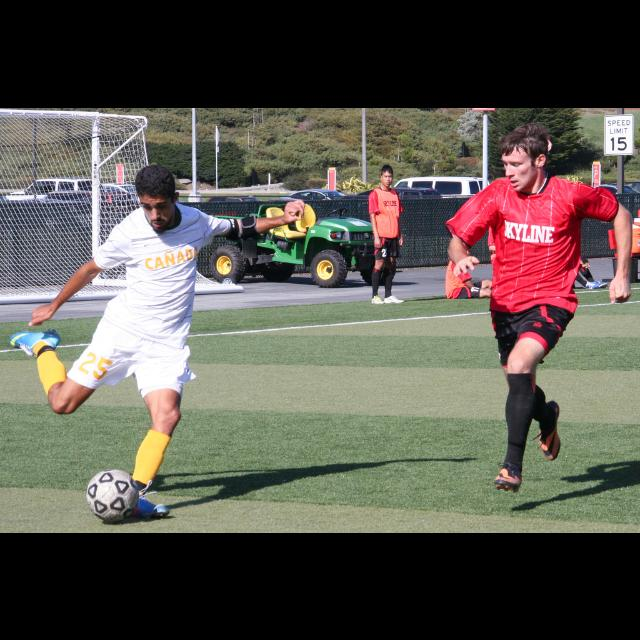Football: (84, 464, 138, 520)
